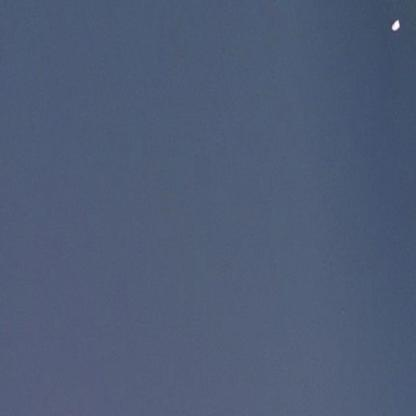ship: (392, 18, 399, 31)
